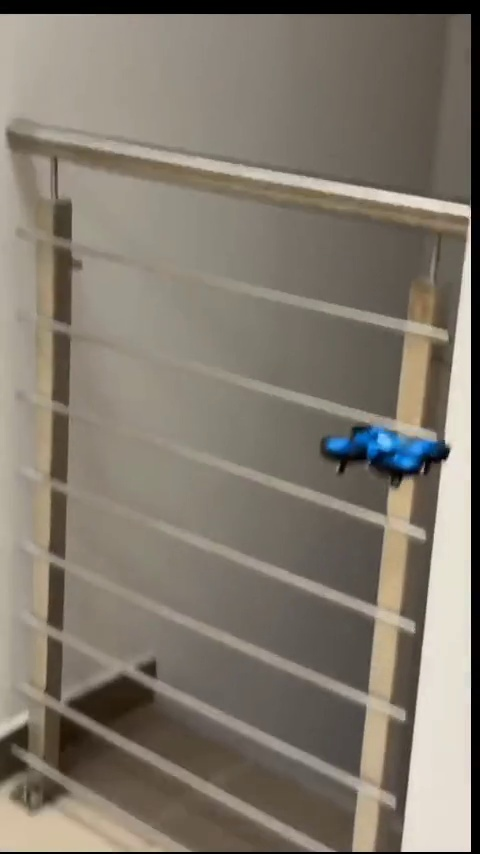drone: (330, 417, 447, 485)
